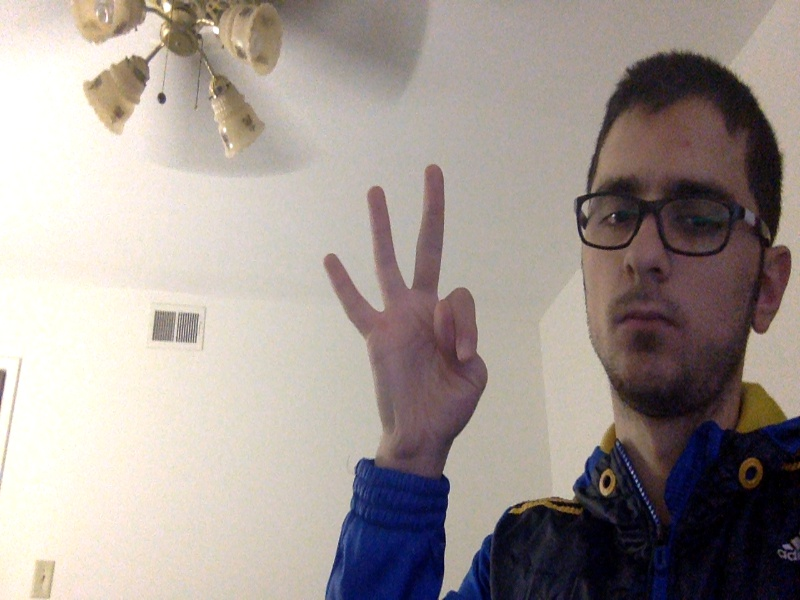3-hand: (321, 162, 488, 446)
